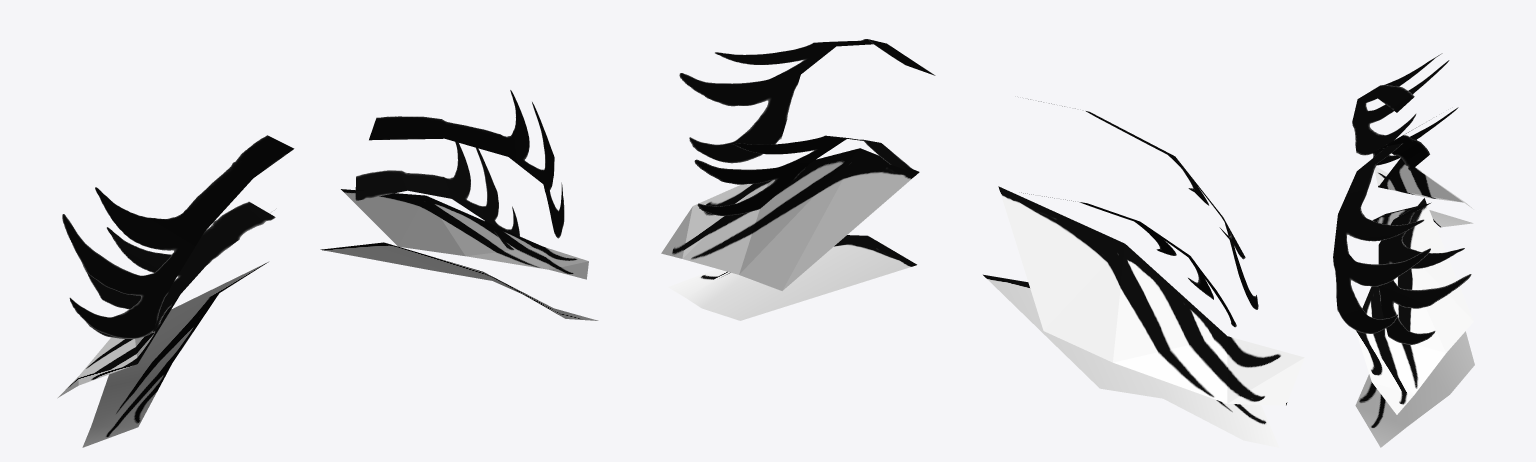
Rendered from bear_lashes.fbx.
3 views of the same model, side by side, from view 1: azimuth 30°, elevation 25°; view 2: azimuth 150°, elevation 25°; view 3: azimuth 270°, elevation 25° (orthographic). The views are drawn at different scales.
Parts seen in each view (by area): view 1: open_long_eyelashL, closed_long_eyelashR, closed_short_eyelashL, open_long_eyelashR, open_short_eyelashL, open_short_eyelashR, closed_short_eyelashR, closed_long_eyelashL; view 2: closed_long_eyelashL, closed_long_eyelashR, closed_short_eyelashR, open_long_eyelashR, closed_short_eyelashL, open_short_eyelashR, open_long_eyelashL, open_short_eyelashL; view 3: closed_long_eyelashR, open_long_eyelashR, closed_short_eyelashR, open_short_eyelashR, open_long_eyelashL, closed_long_eyelashL, open_short_eyelashL, closed_short_eyelashL.
Boxes of the visible parts, x1,y1,x2,y2 form: open_long_eyelashL: (62, 135, 294, 338); closed_long_eyelashR: (341, 189, 588, 279); closed_short_eyelashL: (82, 262, 268, 447); open_long_eyelashR: (369, 90, 564, 238); open_short_eyelashL: (82, 201, 275, 338); open_short_eyelashR: (355, 141, 519, 250); closed_short_eyelashR: (320, 242, 598, 320); closed_long_eyelashL: (58, 294, 180, 397); closed_long_eyelashL: (998, 186, 1304, 405); closed_long_eyelashR: (661, 148, 919, 290); closed_short_eyelashR: (668, 235, 916, 320); open_long_eyelashR: (679, 39, 935, 163); closed_short_eyelashL: (983, 274, 1279, 447); open_short_eyelashR: (694, 135, 912, 215); open_long_eyelashL: (1028, 99, 1258, 309); open_short_eyelashL: (1021, 192, 1236, 327); closed_long_eyelashR: (1355, 198, 1473, 414); open_long_eyelashR: (1333, 143, 1430, 333); closed_short_eyelashR: (1355, 331, 1474, 447); open_short_eyelashR: (1378, 202, 1471, 344); open_long_eyelashL: (1352, 53, 1449, 155); closed_long_eyelashL: (1374, 158, 1473, 209); open_short_eyelashL: (1373, 107, 1458, 170); closed_short_eyelashL: (1372, 206, 1473, 227).
Bounding box in the file's own units: 1.11 × 0.5736 × 0.3677.
Materials: 2 (2 with a texture image).
